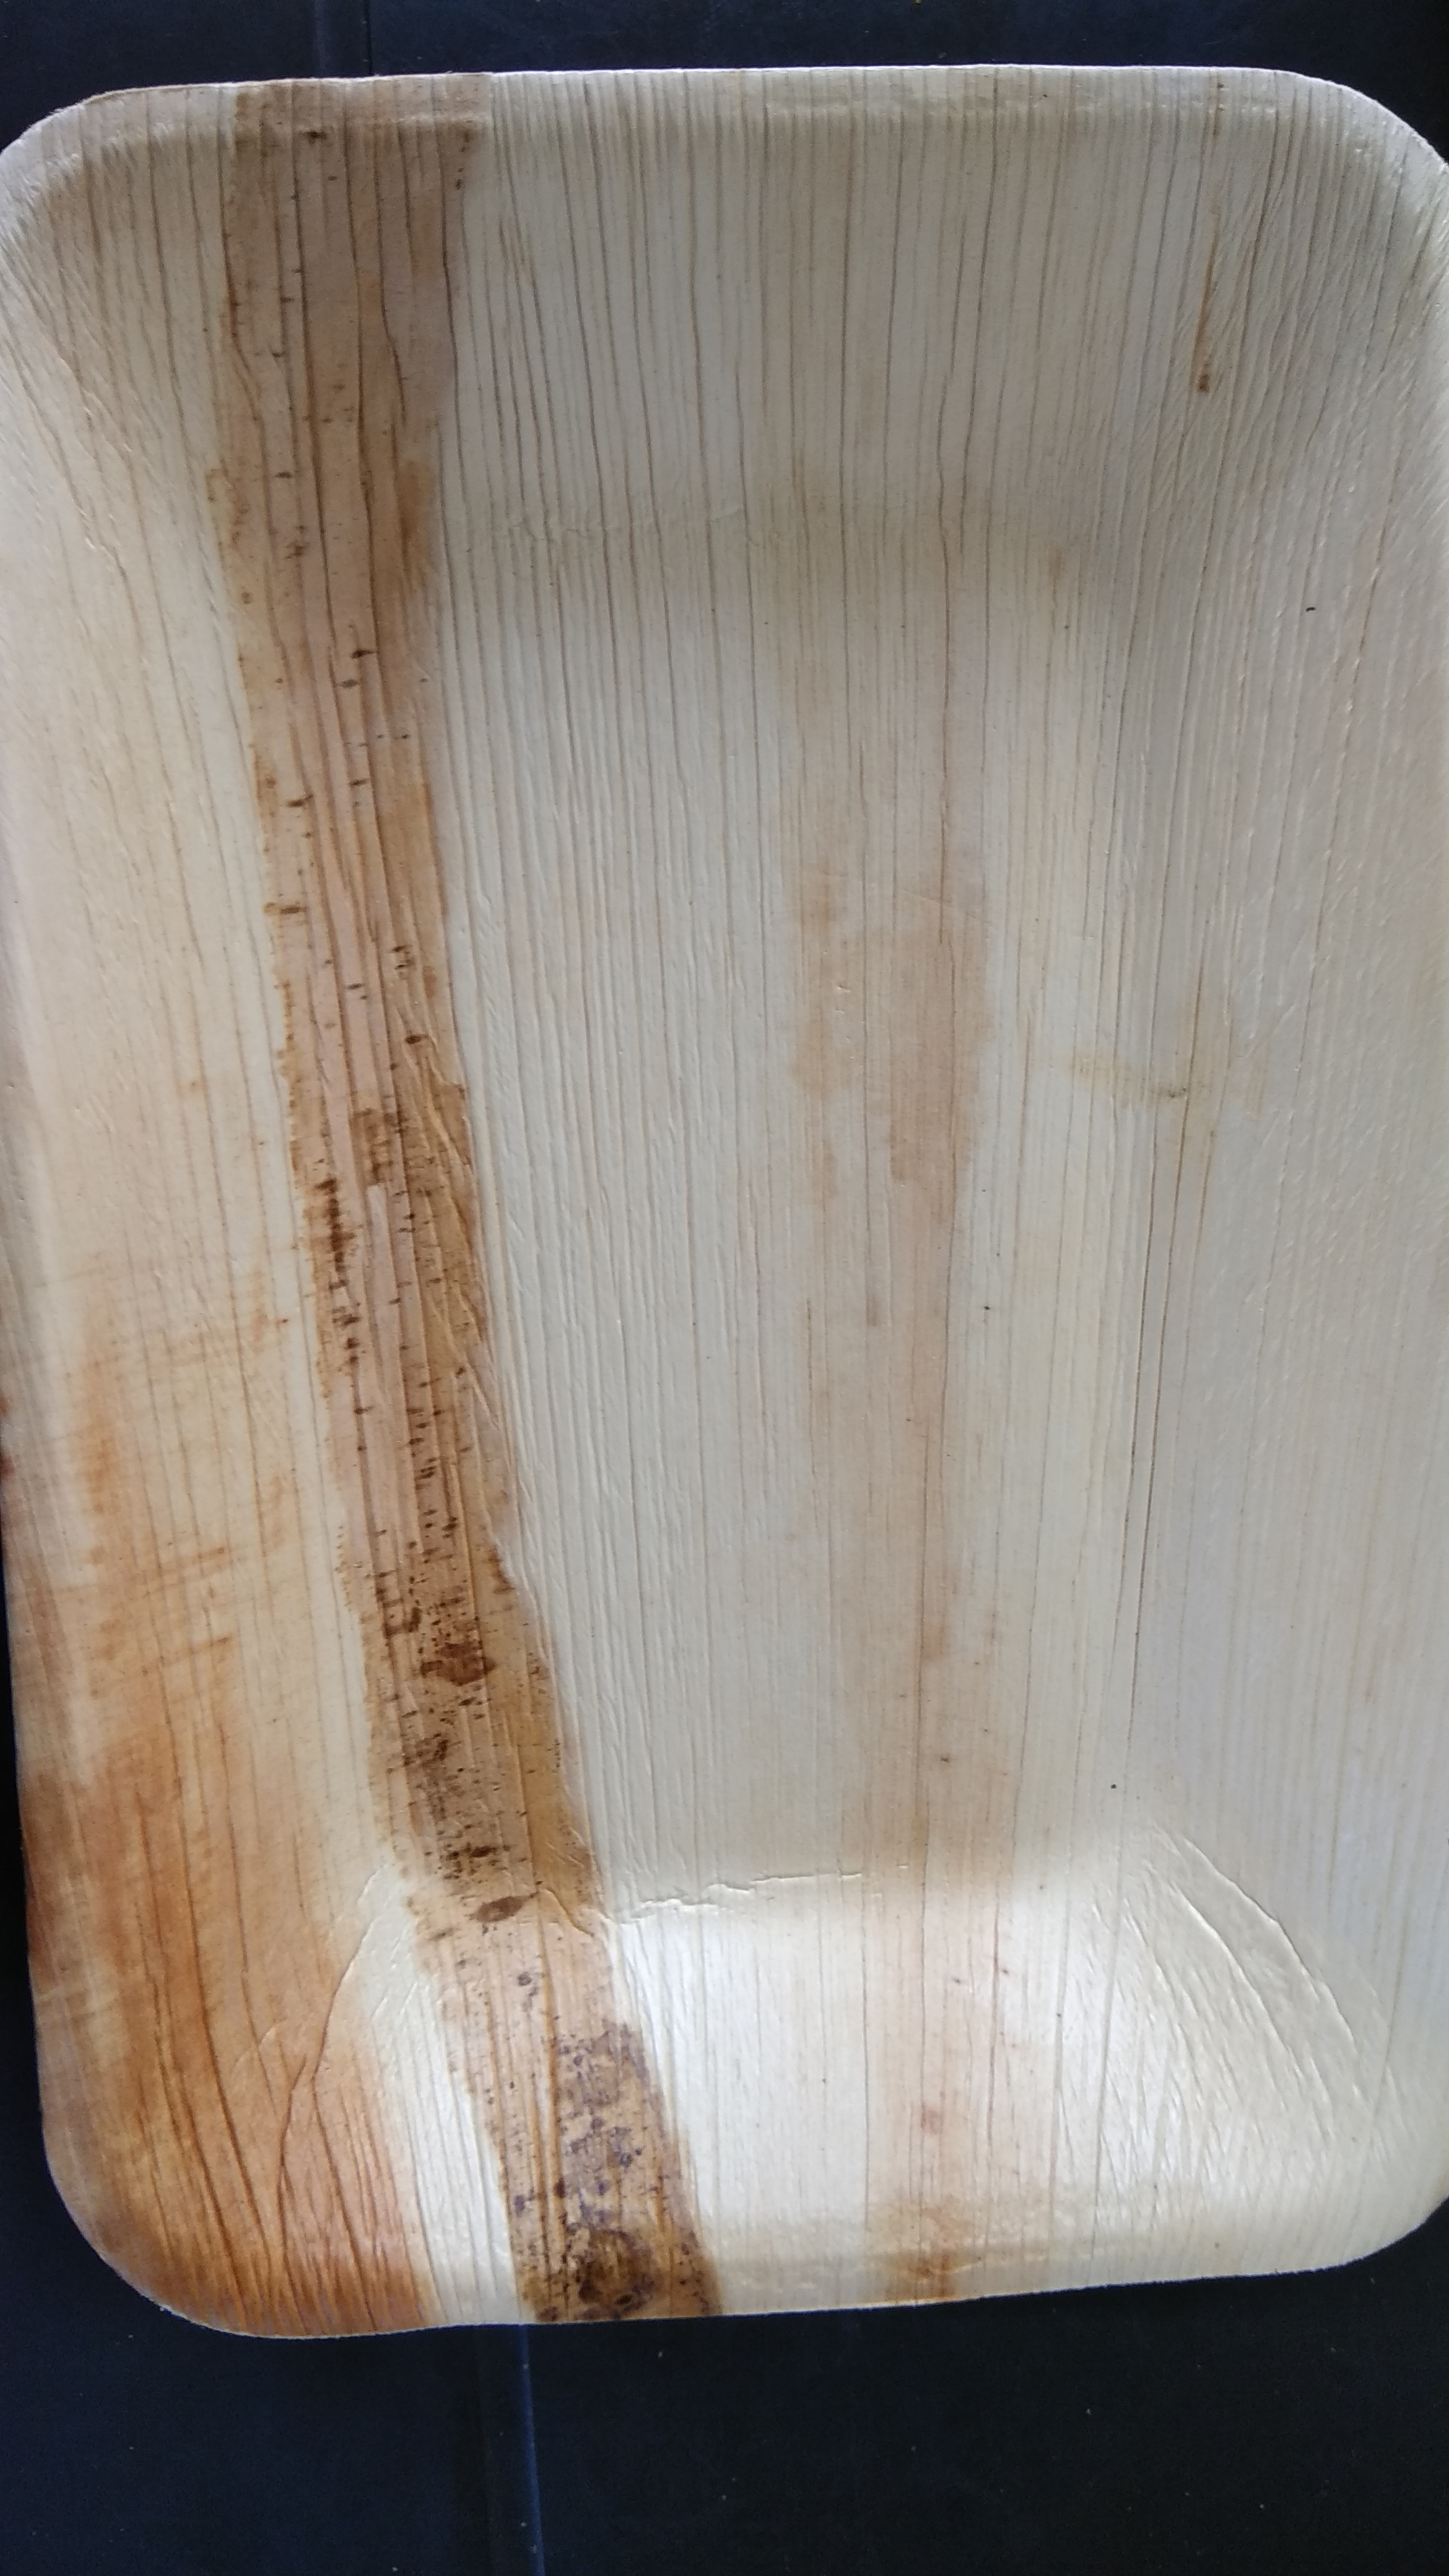areca plate: (50, 46, 1449, 2277)
